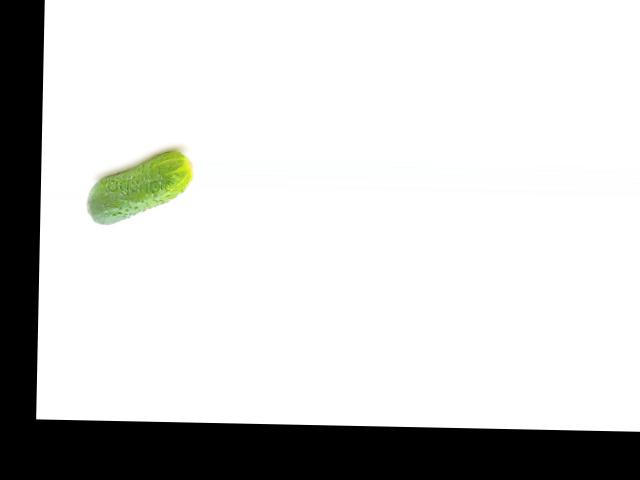cucumber: (86, 149, 193, 226)
